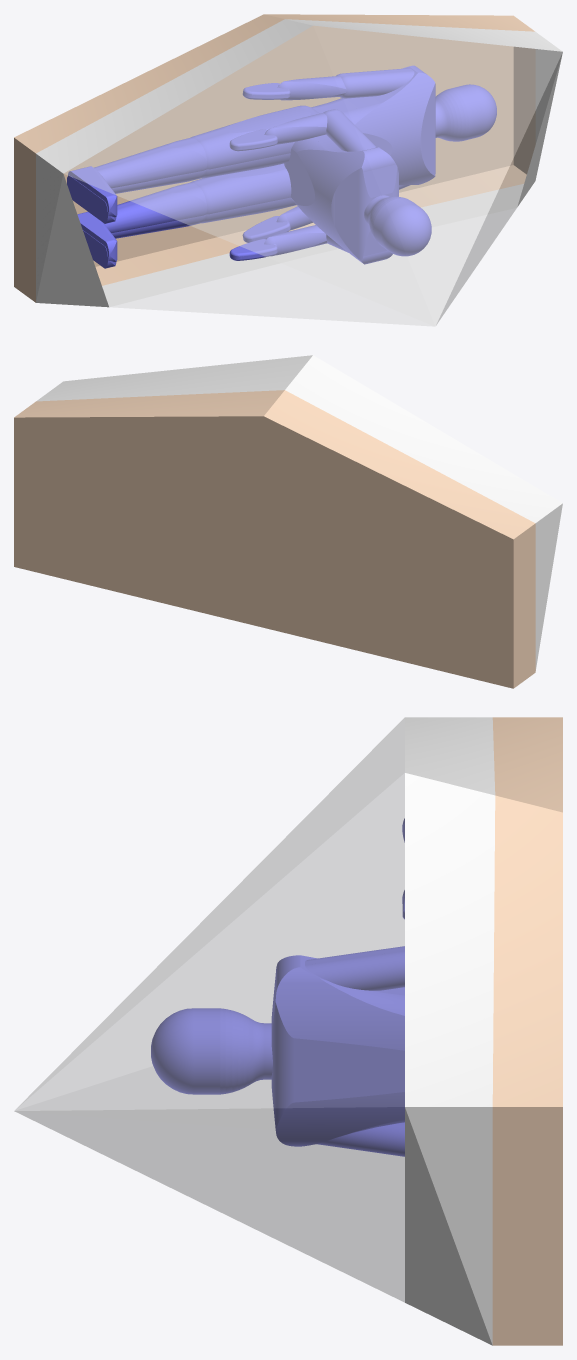
The model's file is Tent_Delta_inner.glb.
3 renders of one model, top to bottom at view 1: azimuth 30°, elevation 25°; view 2: azimuth 150°, elevation 25°; view 3: azimuth 270°, elevation 25°, orthographic. The views are drawn at different scales.
Visible parts, largest first — view 1: Part6-1, standing_dummy_1_76_m_111111221-1, sitting_dummy_1_76_m_22111122144-1; view 2: Part6-1; view 3: Part6-1, sitting_dummy_1_76_m_22111122144-1.
Part boxes in pixels (x1=…): Part6-1: x1=14, y1=14, x2=562, y2=326; standing_dummy_1_76_m_111111221-1: x1=68, y1=65, x2=496, y2=261; sitting_dummy_1_76_m_22111122144-1: x1=67, y1=109, x2=431, y2=268; Part6-1: x1=14, y1=355, x2=562, y2=688; Part6-1: x1=14, y1=717, x2=562, y2=1345; sitting_dummy_1_76_m_22111122144-1: x1=151, y1=898, x2=404, y2=1156.
Size of the model in its own units: 2.1 by 0.95 by 1.25.
